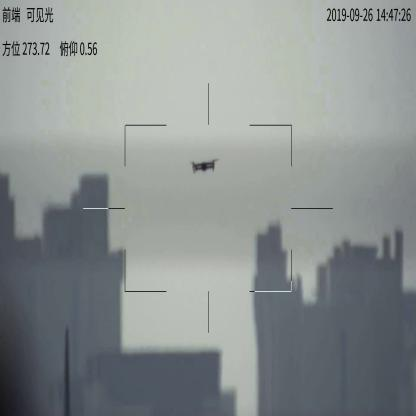uav: (191, 155, 221, 175)
